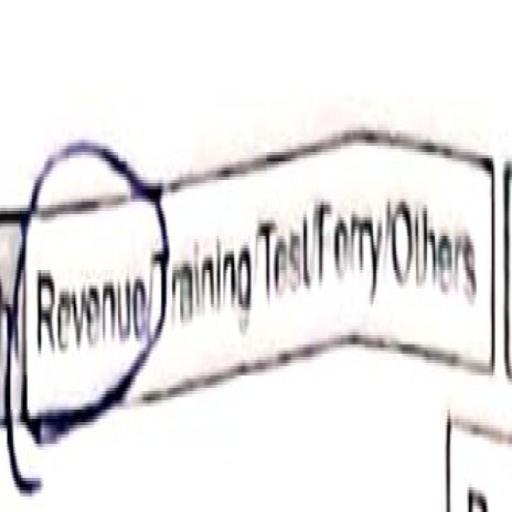check: (0, 115, 156, 502)
